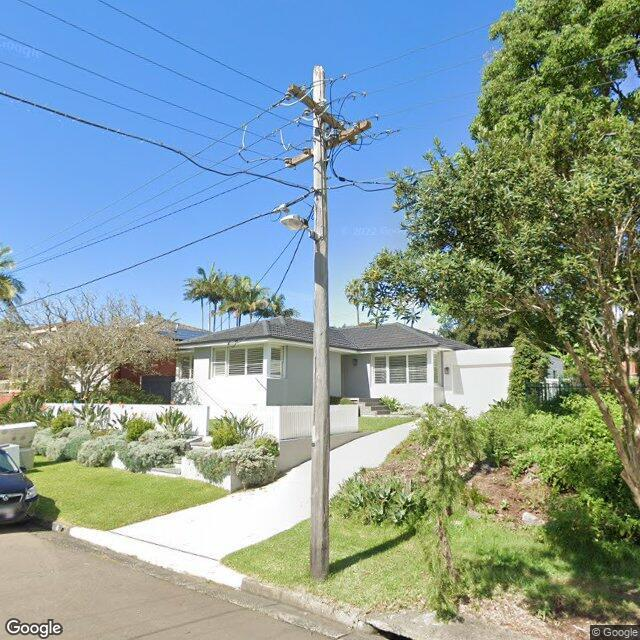crossarm: (286, 83, 357, 145), (285, 119, 372, 169)
streetlight: (280, 214, 318, 241)
timber-pole: (310, 65, 330, 580)
